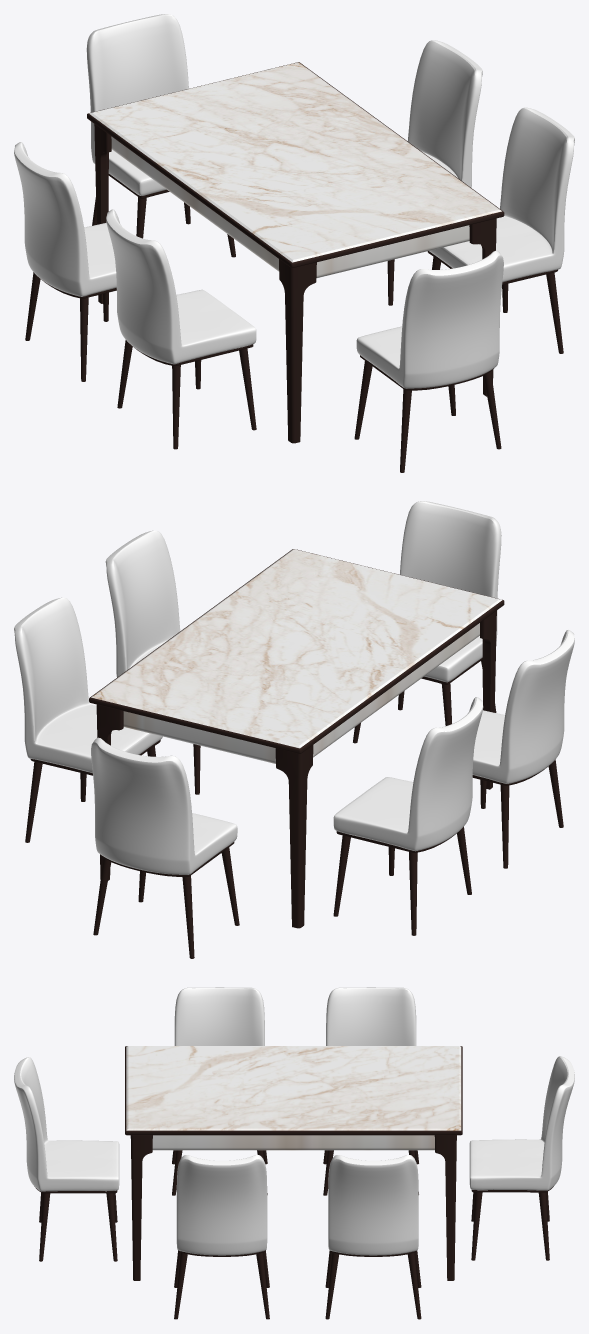
The model's file is ada-None_Zw2HR5k.glb.
3 renders of one model, top to bottom at view 1: azimuth 30°, elevation 25°; view 2: azimuth 150°, elevation 25°; view 3: azimuth 270°, elevation 25°, orthographic. The views are drawn at different scales.
Visible parts, largest first — view 1: table, chair.001, chair.002, chair.004, chair.003, chair, chair.005; view 2: table, chair, chair.003, chair.005, chair.002, chair.001, chair.004; view 3: table, chair.004, chair.005, chair, chair.001, chair.003, chair.002.
Boxes of the visible parts, bbox=[...] form: table: bbox=[87, 62, 504, 443]; chair.001: bbox=[354, 250, 503, 472]; chair.002: bbox=[106, 209, 256, 449]; chair.004: bbox=[427, 107, 574, 353]; chair.003: bbox=[14, 142, 116, 381]; chair: bbox=[86, 14, 235, 257]; chair.005: bbox=[387, 40, 482, 305]; table: bbox=[89, 549, 504, 928]; chair: bbox=[91, 737, 239, 958]; chair.003: bbox=[333, 697, 483, 935]; chair.005: bbox=[14, 597, 162, 842]; chair.002: bbox=[472, 630, 574, 868]; chair.001: bbox=[353, 501, 501, 743]; chair.004: bbox=[105, 530, 200, 794]; table: bbox=[125, 1046, 462, 1280]; chair.004: bbox=[174, 1155, 269, 1319]; chair.005: bbox=[325, 1155, 421, 1319]; chair: bbox=[469, 1056, 574, 1260]; chair.001: bbox=[14, 1057, 119, 1261]; chair.003: bbox=[323, 987, 418, 1195]; chair.002: bbox=[172, 987, 267, 1195].
Size of the model in its own units: 1.22 by 0.5399 by 1.62.
3 materials, 1 textured.
